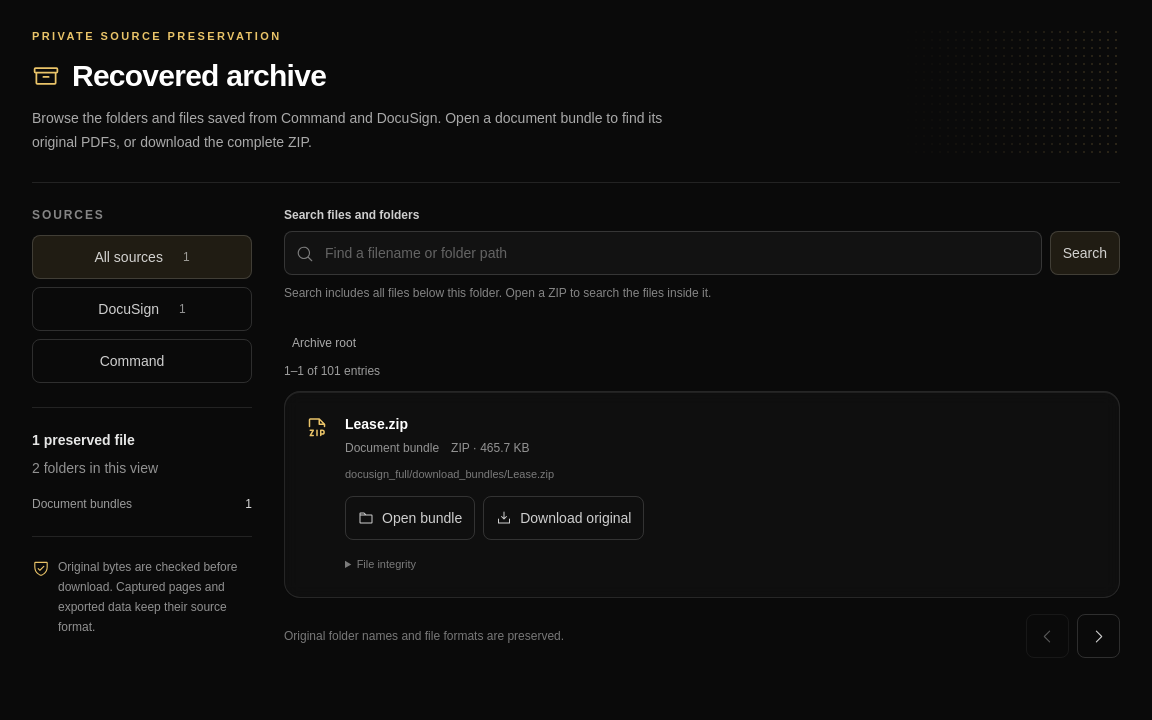
Test case: recovered archive browser › searches every descendant and resets pagination when the search changes
The width and height of the screenshot is (1152, 720).
expect the text "Lease.zip" is shown: met, box [345, 416, 408, 432]
Step 1. Click the button named "Next page" → (1098, 636), box [1077, 614, 1120, 658]
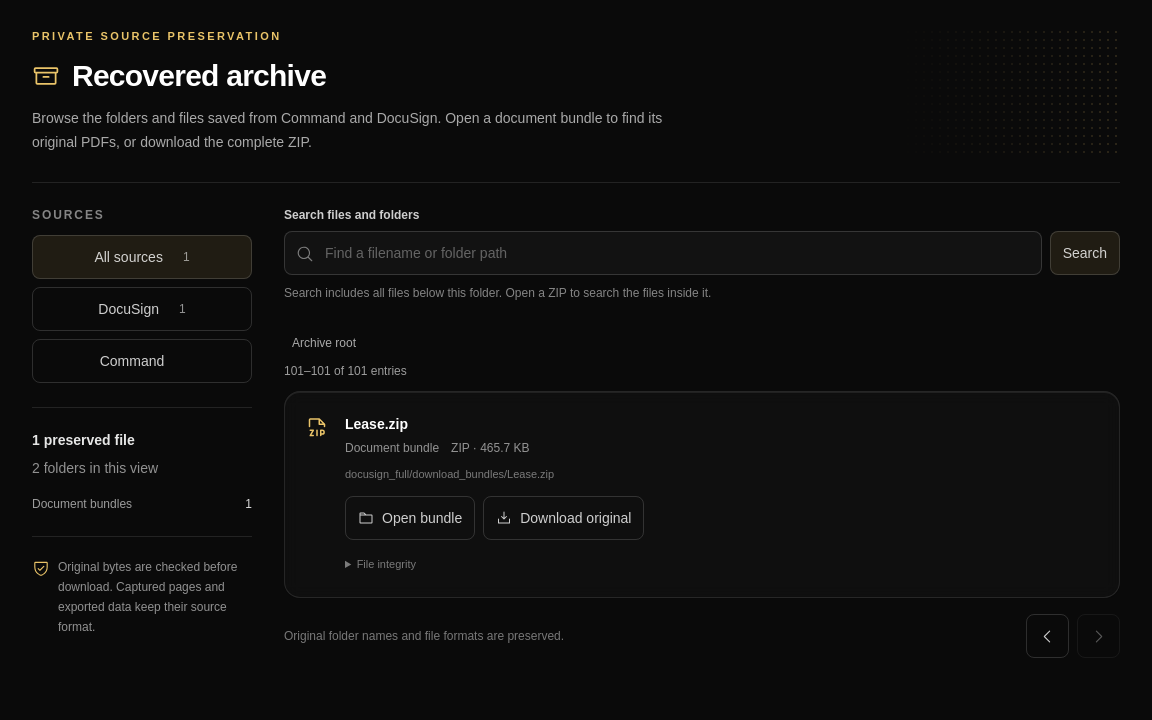
Step 2. Type "missing lease" into the search field labelled "Search files and folders" → (663, 253), box [284, 231, 1042, 275]
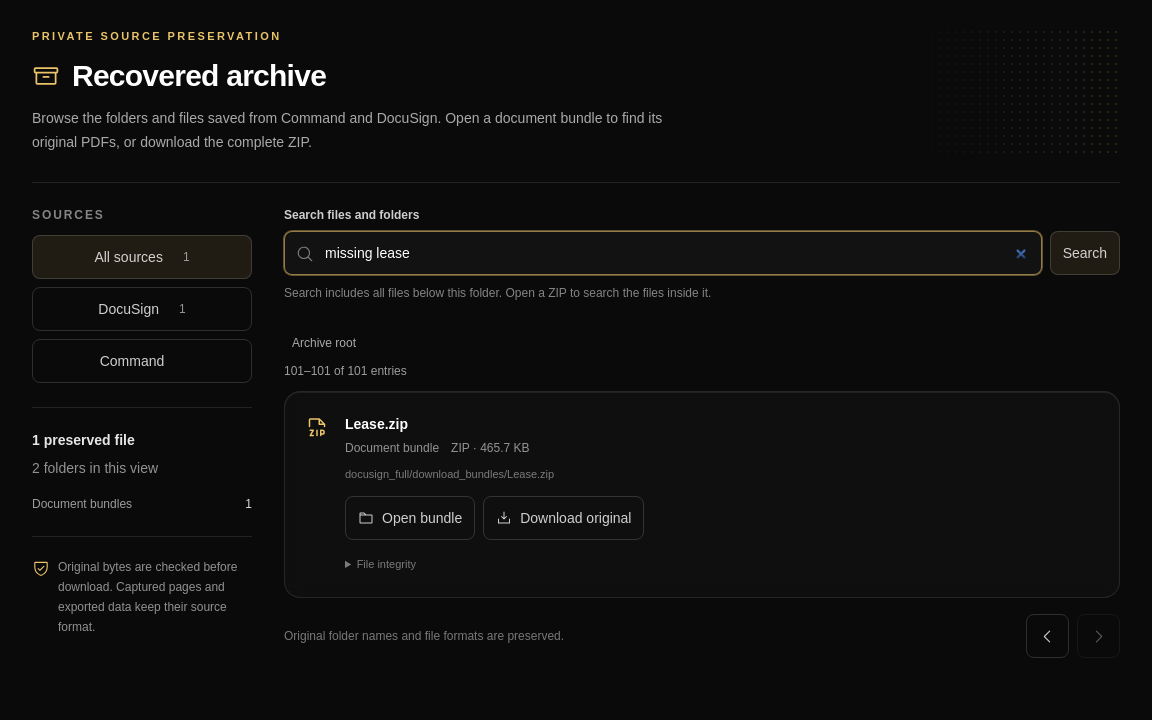
Step 3. Click the button "Search" → (1085, 253), box [1050, 231, 1120, 275]
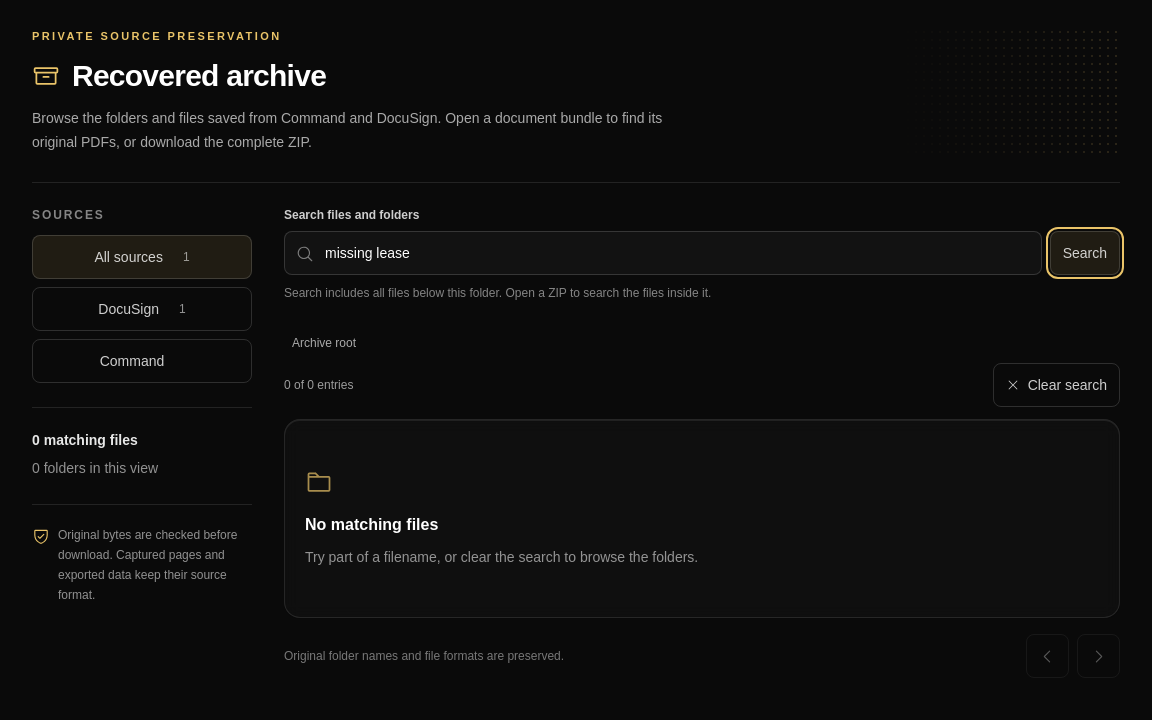
expect the heading "No matching files" is shown: met, box [305, 516, 438, 533]
expect the text "0 of 0 entries" is shown: met, box [284, 377, 353, 393]
